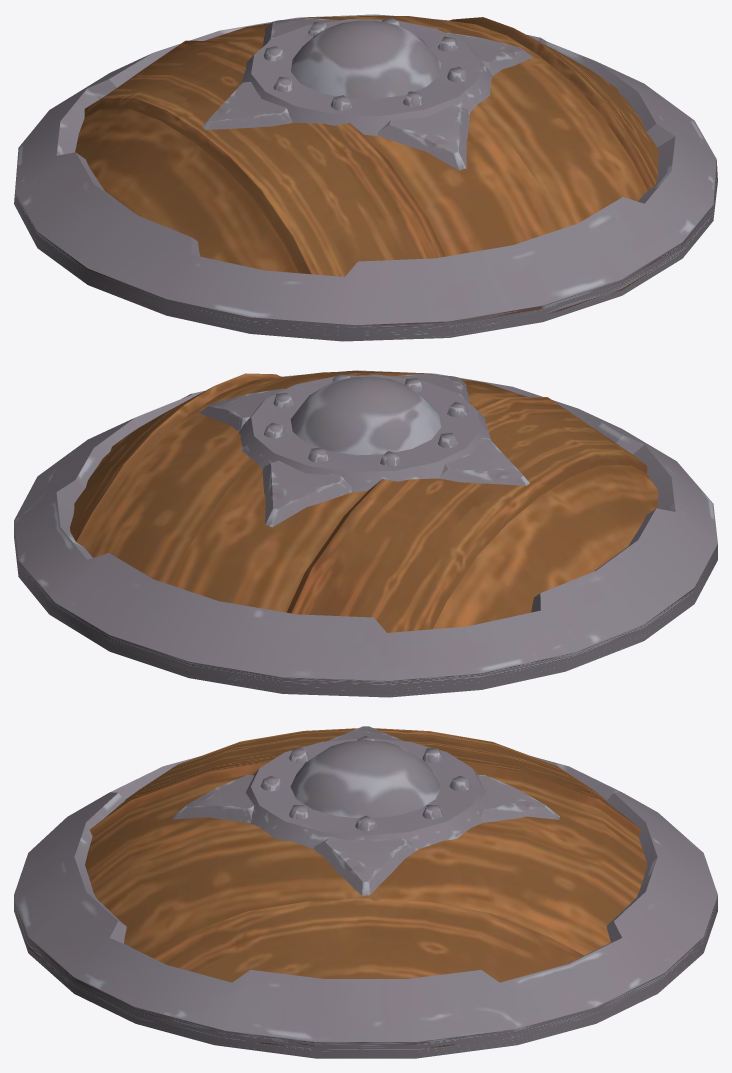
The model's file is fp-shield-wooden-lod1.glb.
3 renders of one model, top to bottom at view 1: azimuth 30°, elevation 25°; view 2: azimuth 150°, elevation 25°; view 3: azimuth 270°, elevation 25°, orthographic.
Parts seen in each view (by area): view 1: WeaponMesh_fp-shield-wooden_Shield_Wooden; view 2: WeaponMesh_fp-shield-wooden_Shield_Wooden; view 3: WeaponMesh_fp-shield-wooden_Shield_Wooden.
Boxes of the visible parts, x1,y1,x2,y2 form: WeaponMesh_fp-shield-wooden_Shield_Wooden: (14,14,717,341); WeaponMesh_fp-shield-wooden_Shield_Wooden: (14,370,717,697); WeaponMesh_fp-shield-wooden_Shield_Wooden: (14,726,717,1058).
Size of the model in its own units: 0.8909 by 0.2592 by 0.9.
3 materials, 3 textured.
